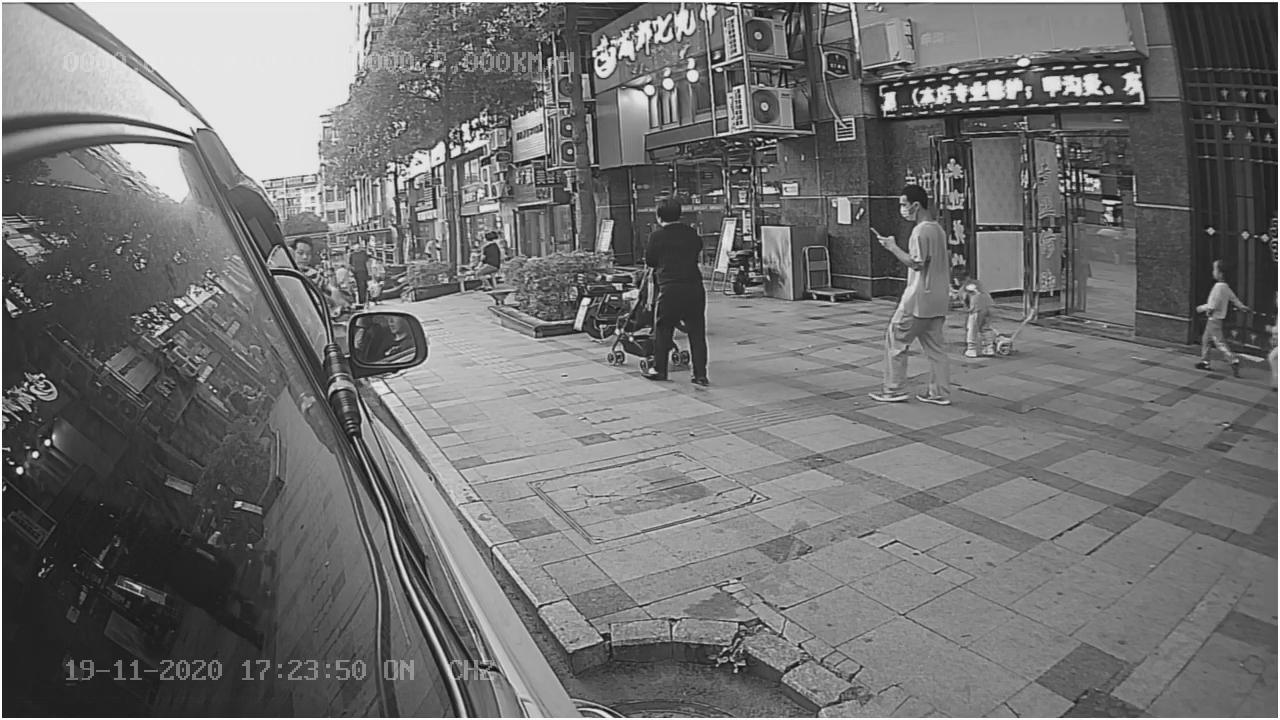person: (868, 186, 957, 412), (644, 199, 715, 388), (1188, 257, 1246, 373)
